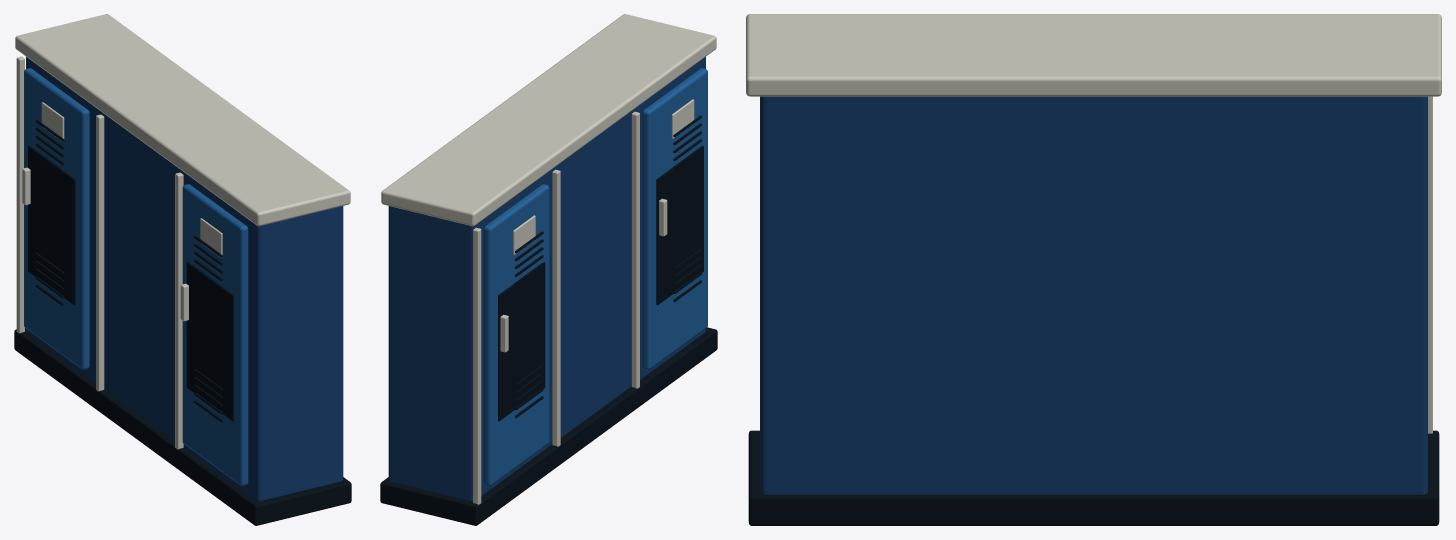
Rendered from locker-bank.gltf.
3 renders of one model, left to right at view 1: azimuth 30°, elevation 25°; view 2: azimuth 150°, elevation 25°; view 3: azimuth 270°, elevation 25°, orthographic. The views are drawn at different scales.
Parts seen in each view (by area): view 1: locker-bank-carcass, locker-top-lip, static-door-0-panel, static-door-2-panel, locker-bottom-kick, static-door-2-recess, static-door-0-recess, locker-divider-1, locker-divider-2, locker-divider-0, static-door-2-number-plate, static-door-0-number-plate; view 2: locker-bank-carcass, locker-top-lip, static-door-2-panel, static-door-0-panel, locker-bottom-kick, static-door-2-recess, static-door-0-recess, locker-divider-2, locker-divider-0, locker-divider-1, static-door-0-number-plate, static-door-2-number-plate; view 3: locker-bank-carcass, locker-top-lip, locker-bottom-kick, locker-divider-2.
Boxes of the visible parts, <box> form: locker-bank-carcass: <box>26,57,343,500</box>; locker-top-lip: <box>15,14,350,226</box>; static-door-0-panel: <box>182,184,248,485</box>; static-door-2-panel: <box>24,68,89,369</box>; locker-bottom-kick: <box>14,328,351,525</box>; static-door-2-recess: <box>28,145,75,305</box>; static-door-0-recess: <box>186,262,233,421</box>; locker-divider-1: <box>96,114,104,391</box>; locker-divider-2: <box>16,56,24,333</box>; locker-divider-0: <box>175,172,183,449</box>; static-door-2-number-plate: <box>41,102,64,141</box>; static-door-0-number-plate: <box>200,218,222,257</box>; locker-bank-carcass: <box>388,57,705,500</box>; locker-top-lip: <box>381,14,716,226</box>; static-door-2-panel: <box>483,184,549,485</box>; static-door-0-panel: <box>642,68,707,369</box>; locker-bottom-kick: <box>380,327,717,525</box>; static-door-2-recess: <box>498,262,545,421</box>; static-door-0-recess: <box>656,145,703,305</box>; locker-divider-2: <box>473,227,481,504</box>; locker-divider-0: <box>631,111,639,388</box>; locker-divider-1: <box>552,169,560,446</box>; static-door-0-number-plate: <box>671,99,694,138</box>; static-door-2-number-plate: <box>513,215,535,254</box>; locker-bank-carcass: <box>760,96,1427,494</box>; locker-top-lip: <box>746,14,1441,96</box>; locker-bottom-kick: <box>748,430,1439,525</box>; locker-divider-2: <box>1428,96,1432,433</box>.
Size of the model in its own units: 0.6425 by 1.79 by 2.52.
